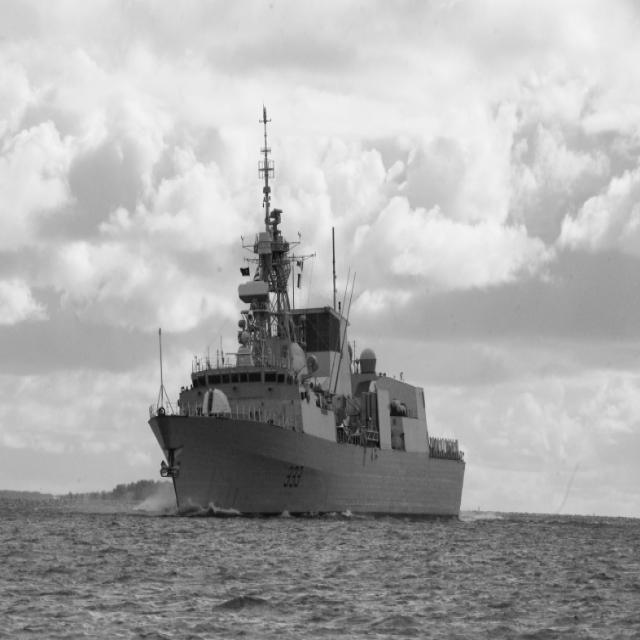Fragata: (149, 99, 470, 521)
